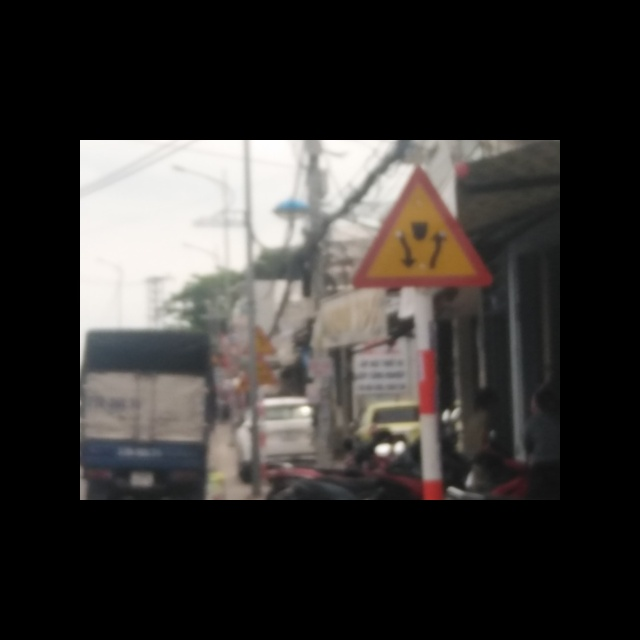Đường đôi: (350, 163, 493, 289)
